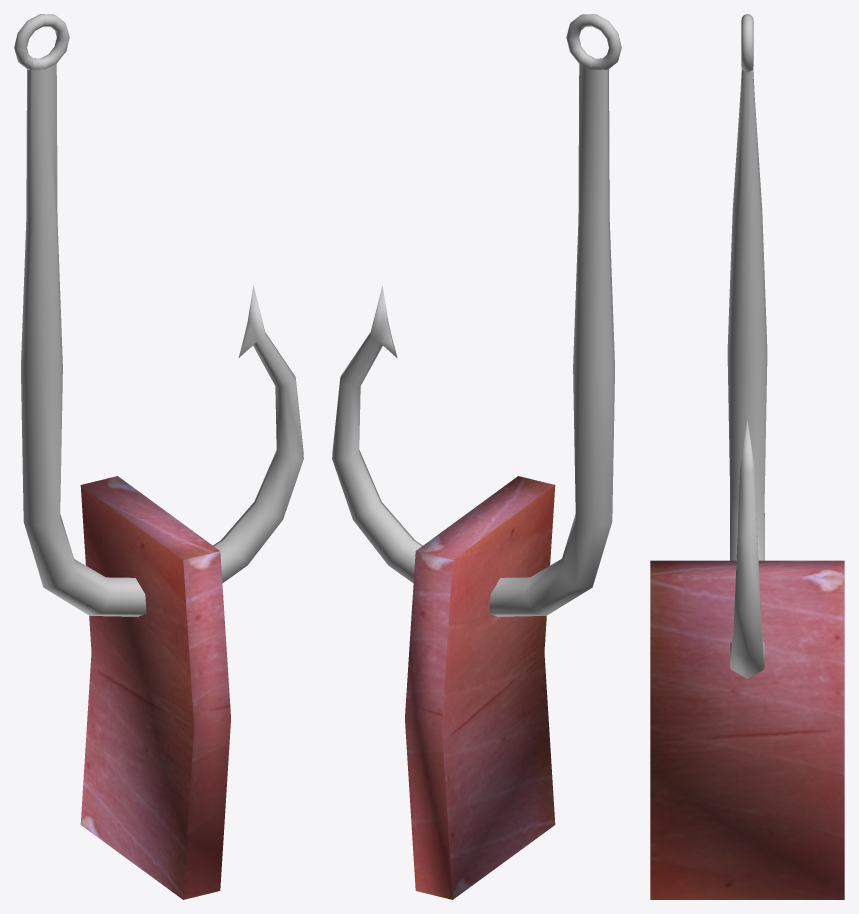
The model's file is Bait_Tuna.fbx.
3 renders of one model, left to right at view 1: azimuth 30°, elevation 25°; view 2: azimuth 150°, elevation 25°; view 3: azimuth 270°, elevation 25°, orthographic. The views are drawn at different scales.
Visible parts, largest first — view 1: Bait_Tuna; view 2: Bait_Tuna; view 3: Bait_Tuna.
Part boxes in pixels (x1,y1,x2,y2): Bait_Tuna: (14,14,303,899); Bait_Tuna: (332,14,621,899); Bait_Tuna: (650,14,844,899).
Bounding box in the file's own units: 0.2116 × 0.6092 × 0.1302.
